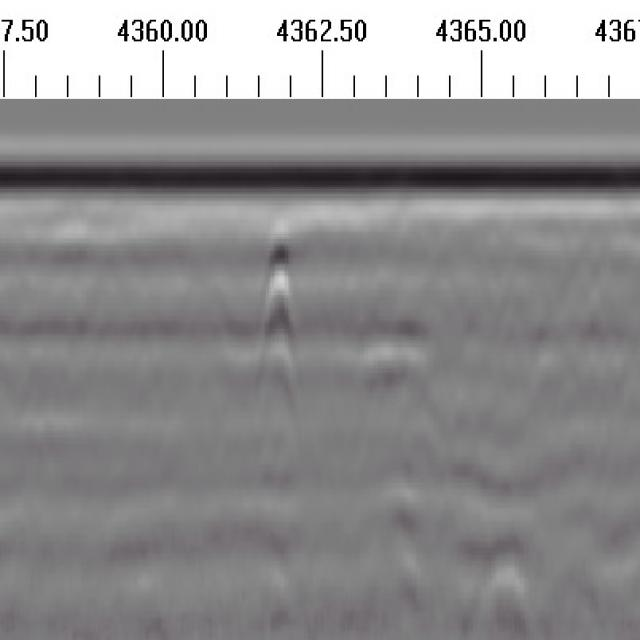crack: (254, 215, 302, 492)
